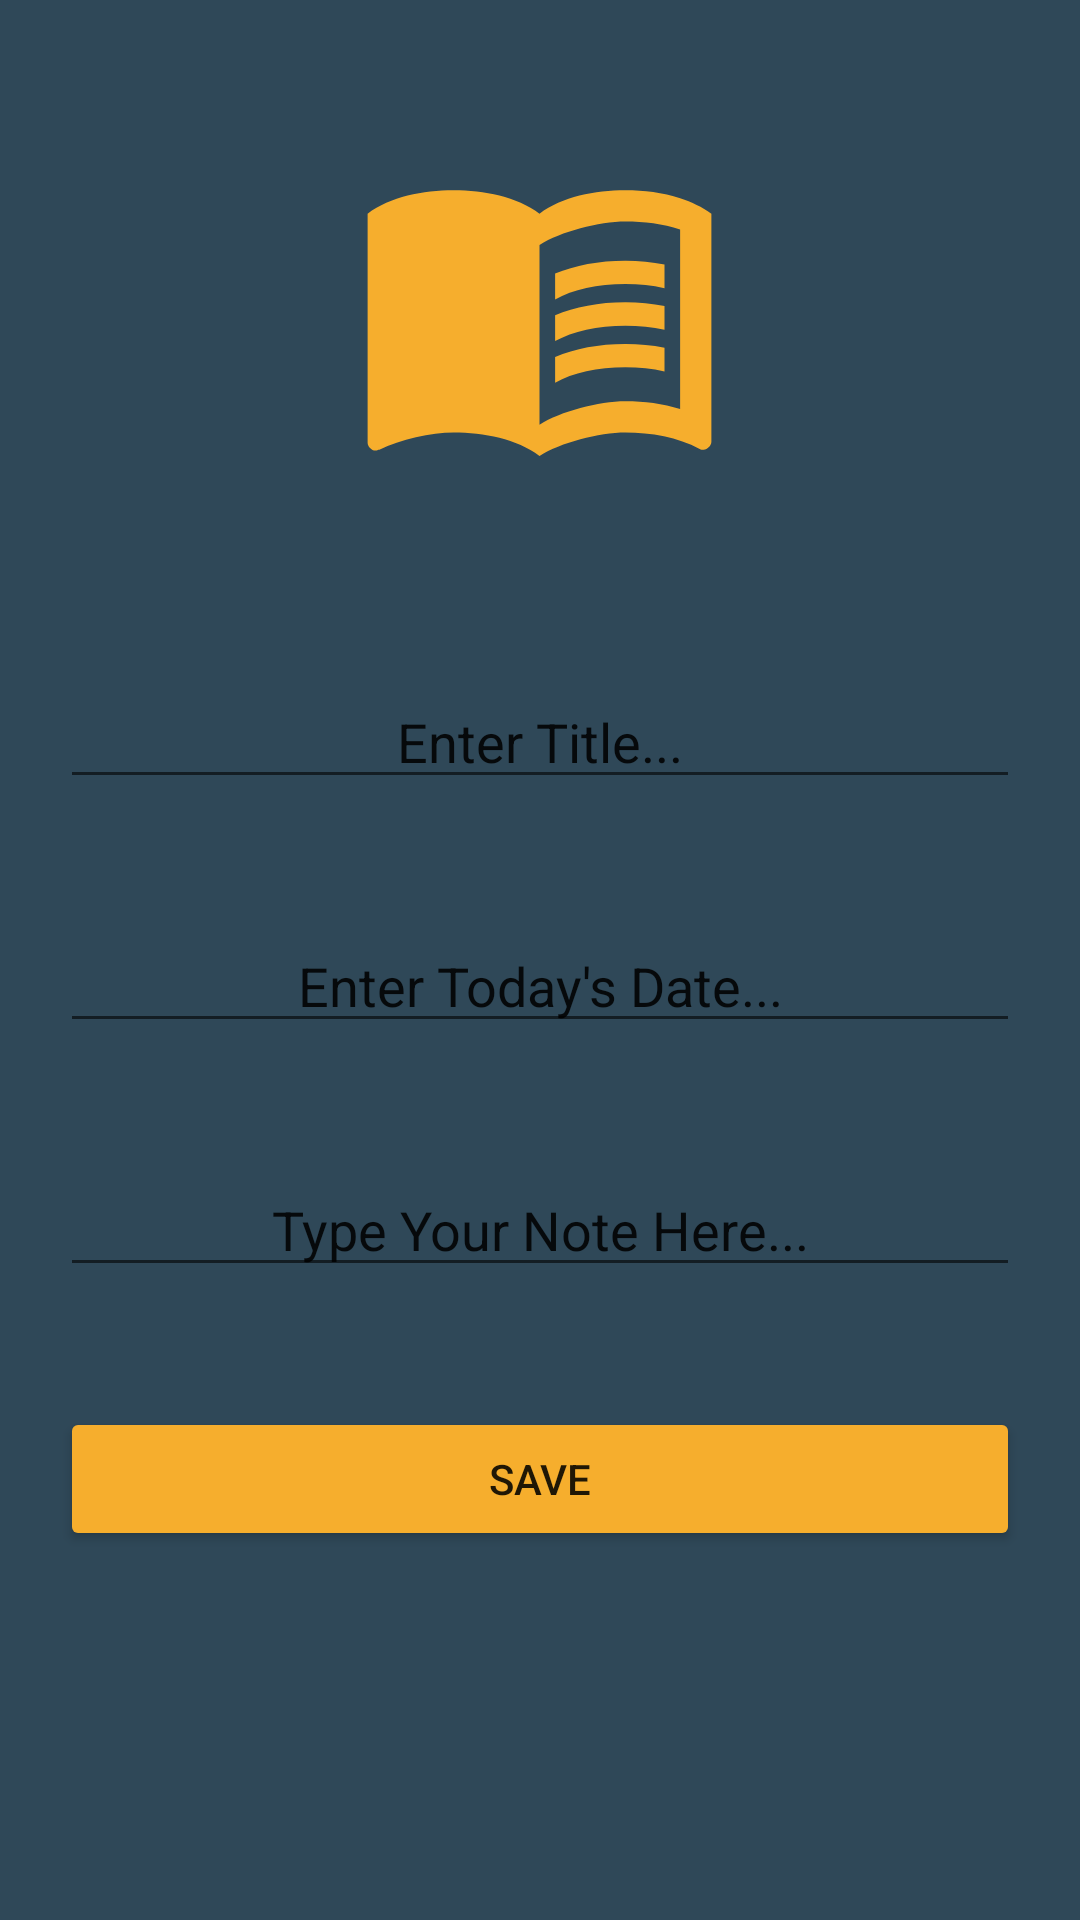

Screen size 1080*1920. Icon name, then its box in pixels as bbox=[x1, y1, x2, y2]:
notes: bbox=[367, 190, 712, 456]
